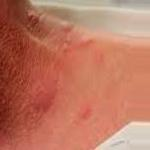Ants: (27, 79, 56, 111), (59, 20, 75, 37), (25, 10, 40, 27), (76, 35, 94, 47), (81, 105, 91, 119)
